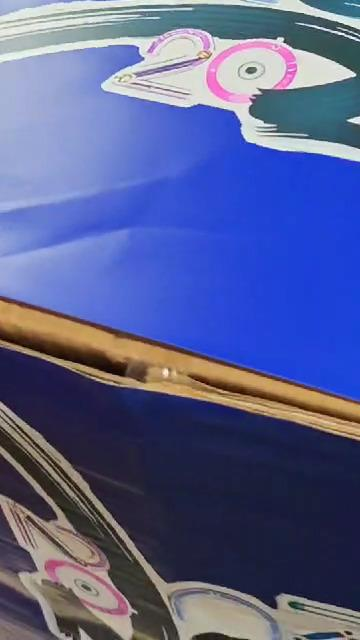B_R1: (24, 0, 360, 167)
